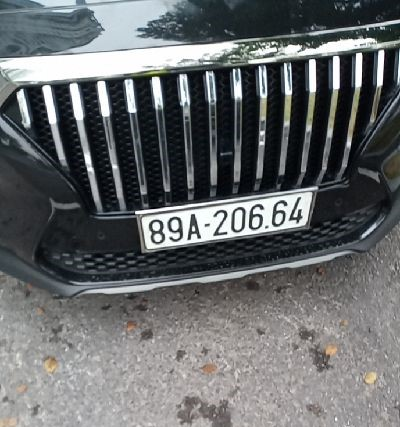number_plate: (118, 188, 338, 253)
